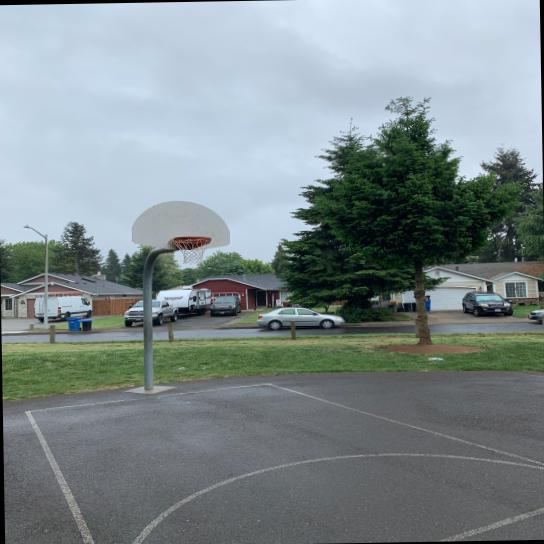basketball-hoop: (172, 235, 212, 265)
